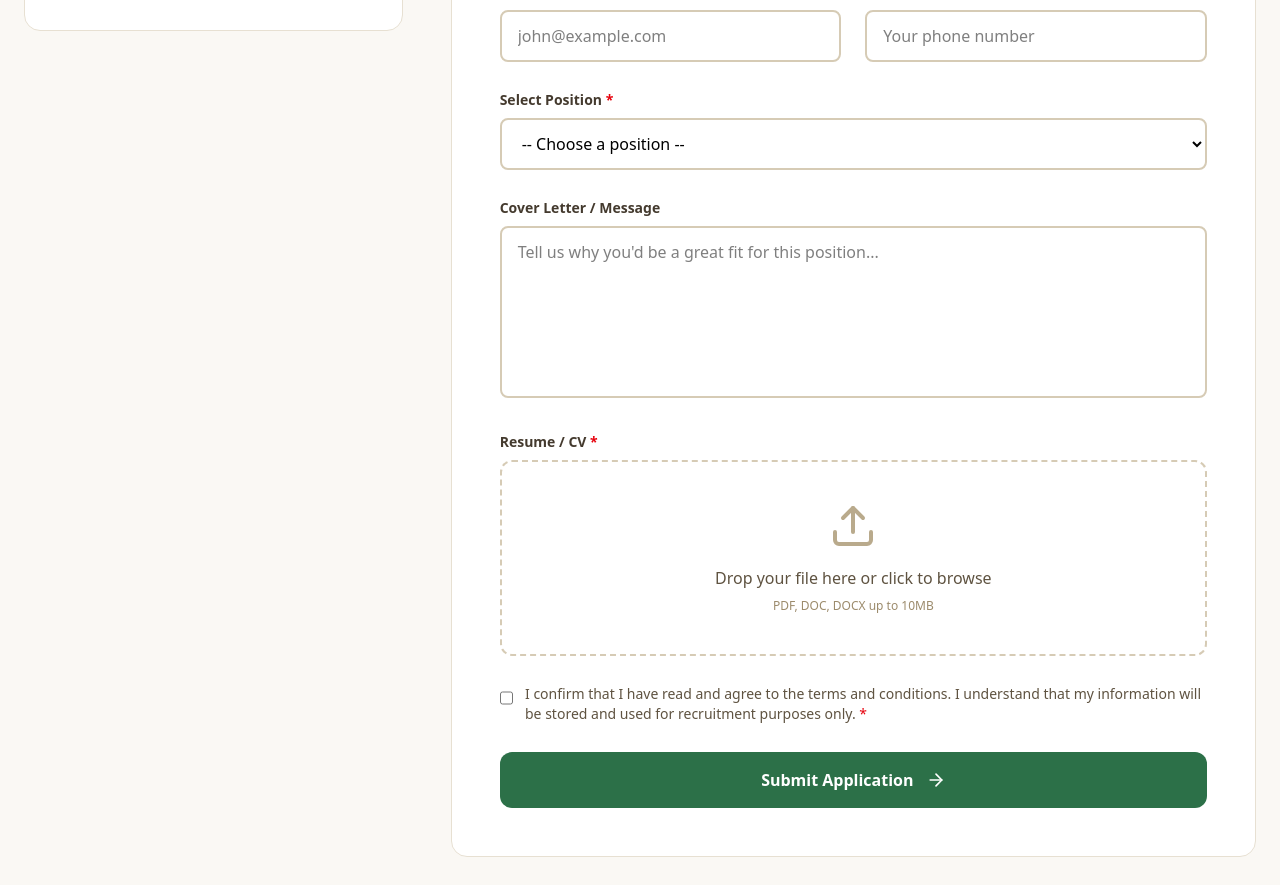
CareerContainer › shows the expected validation errors and does not submit when required fields are empty
(page scrolled)
Click the button "Submit Application": (853, 780) [500,752,1207,808]
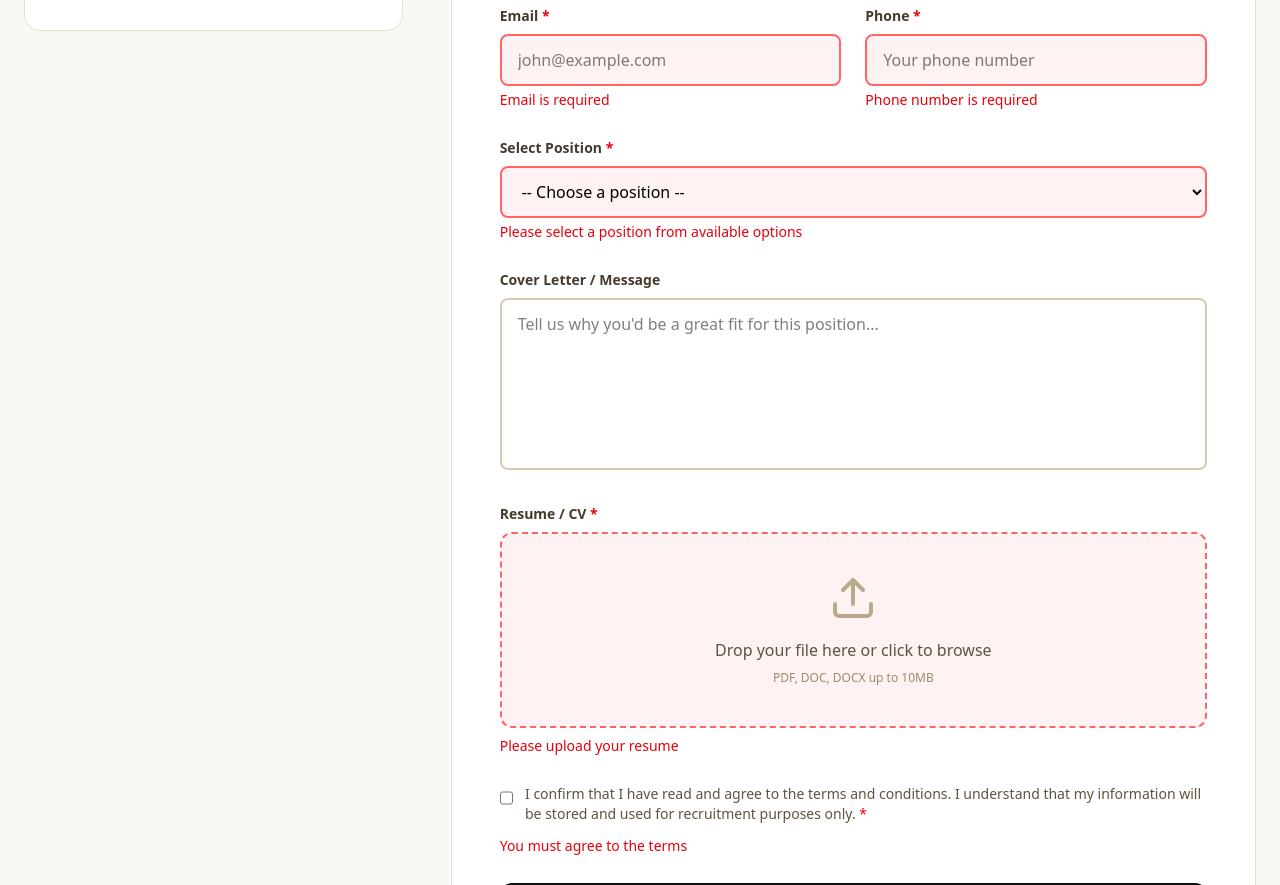
Now the text "Email is required" is shown, box [500,90,610,109]
Now the text "Phone number is required" is shown, box [865,90,1038,109]
Now the text "Please select a position from available options" is shown, box [500,222,802,241]
